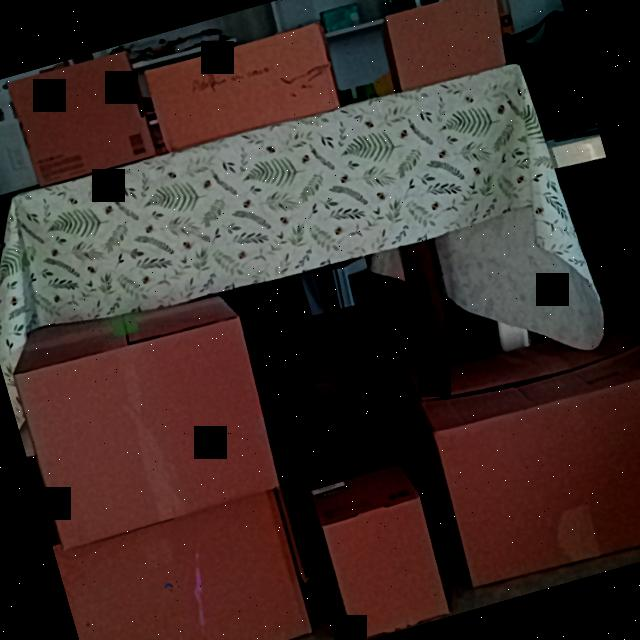box: (13, 311, 280, 548), (432, 363, 640, 590), (52, 483, 315, 640), (143, 23, 343, 156), (10, 49, 156, 187), (322, 496, 451, 640), (383, 0, 508, 92)
